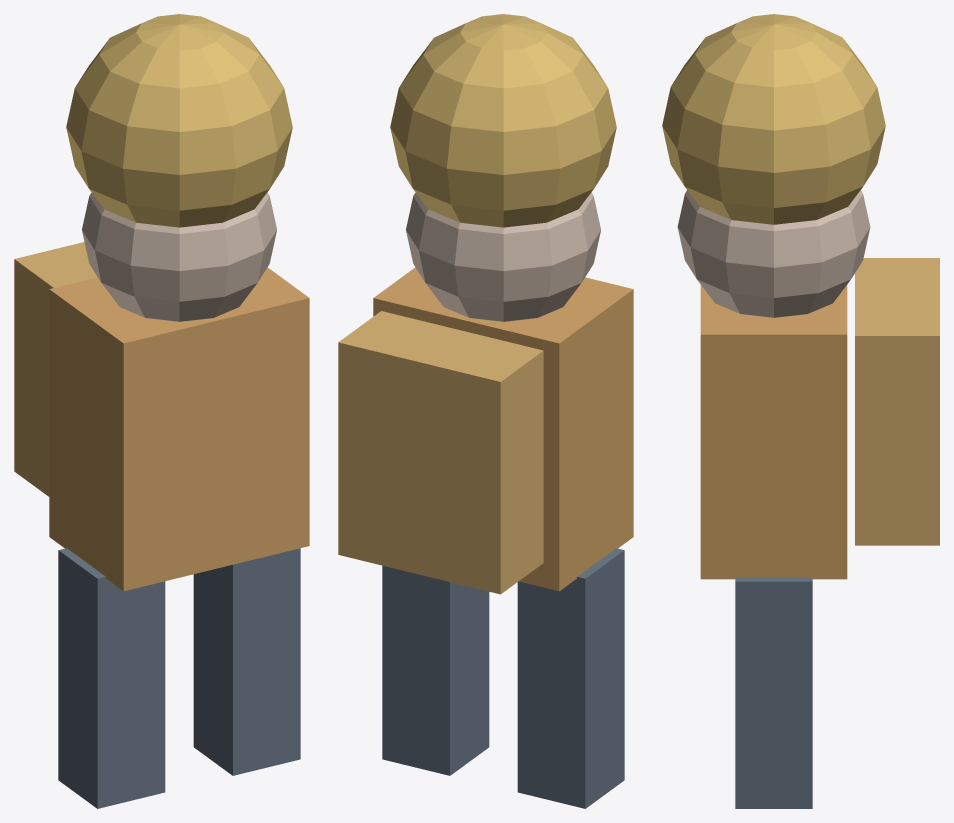
File: rider_main.glb
The picture shows the model from 3 angles, left to right: view 1: azimuth 30°, elevation 25°; view 2: azimuth 150°, elevation 25°; view 3: azimuth 270°, elevation 25°; orthographic projection.
Size of the model in its own units: 0.6 by 2.11 by 0.72.
